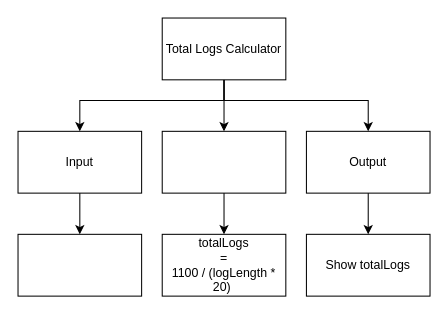
This 448x314 diagram has some shape labels left out. Each missing label, with the centre of its shape:
Get logLength: pixel 79 264
Process: pixel 223 161
